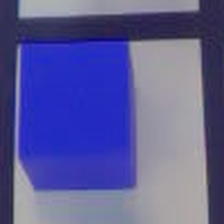cube: (10, 33, 147, 195)
